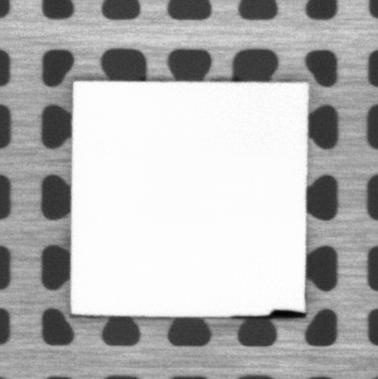DIE_BROKEN: (267, 307, 306, 319)
